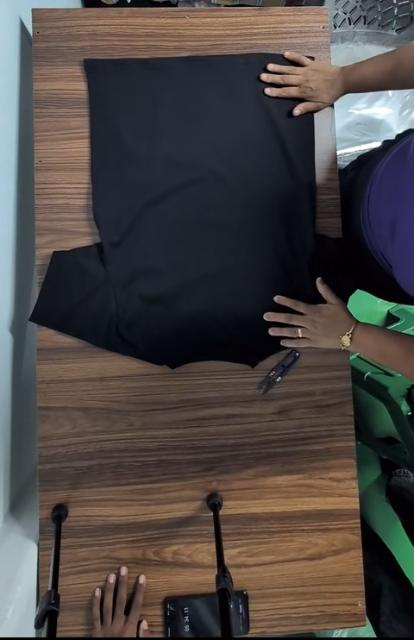new-garment: (33, 53, 317, 367)
